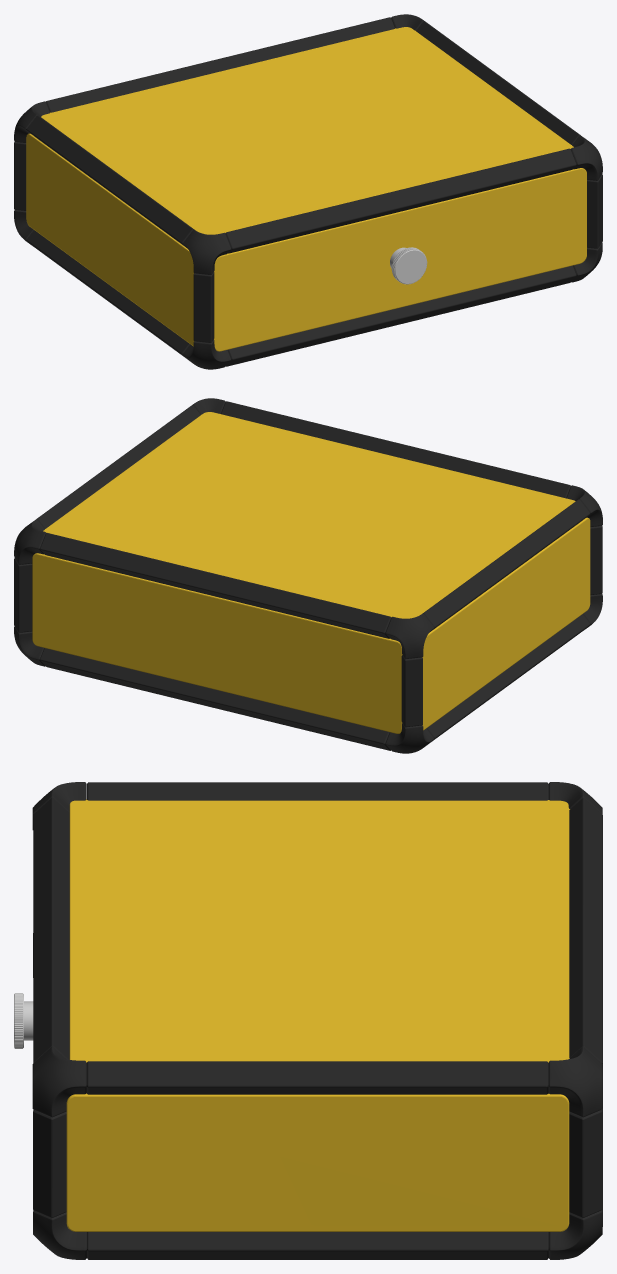
3 views of the same model, one above another, from view 1: azimuth 30°, elevation 25°; view 2: azimuth 150°, elevation 25°; view 3: azimuth 270°, elevation 25° (orthographic). The views are drawn at different scales.
Visible parts, largest first — view 1: 420x329x79; view 2: 420x329x79; view 3: 420x329x79.
Boxes of the visible parts, bbox=[...] form: 420x329x79: bbox=[14, 14, 602, 369]; 420x329x79: bbox=[14, 398, 602, 753]; 420x329x79: bbox=[14, 782, 602, 1259].
Size of the model in its own units: 0.4977 by 0.1566 by 0.4196.
